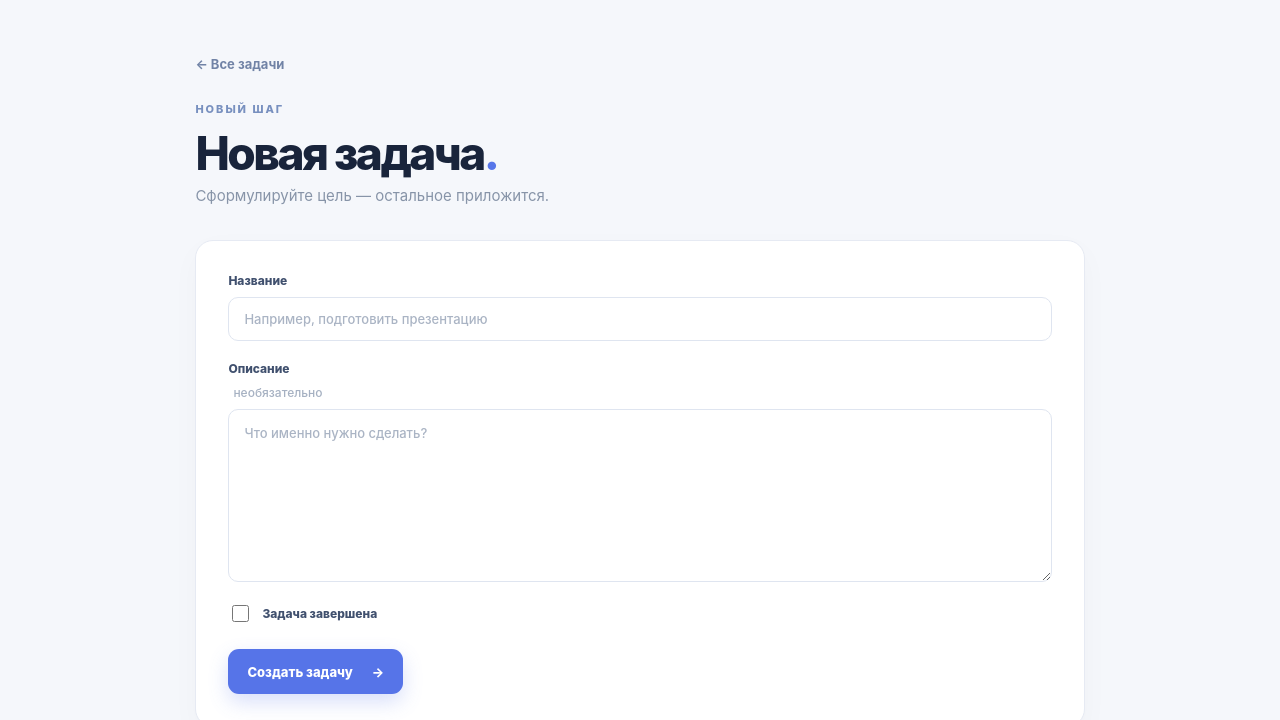
Scenario: connects task validation messages to their fields
In the field named "title": (640, 319) left=228, top=297, right=1052, bottom=341, type "Новая задача"
(page scrolled)
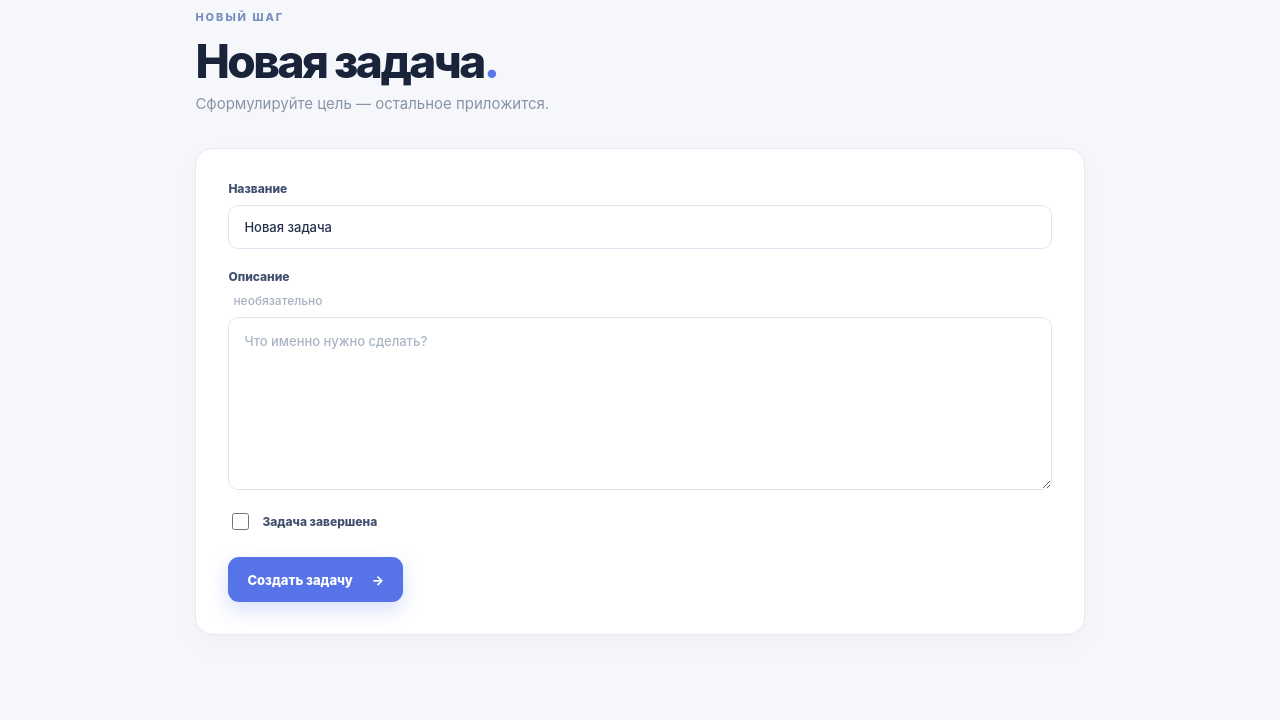
Submit the form, box left=195, top=148, right=1085, bottom=635
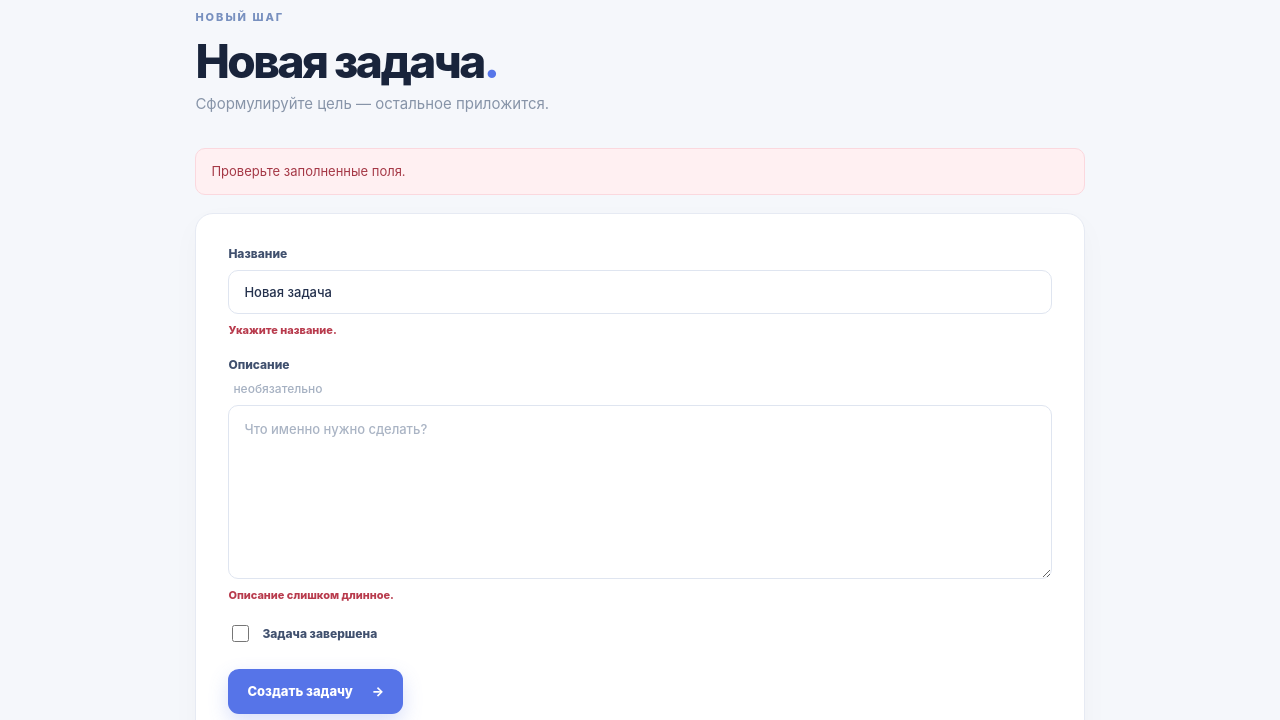
Expected: the text with id "title-error" reads "Укажите название.", left=228, top=323, right=337, bottom=337
